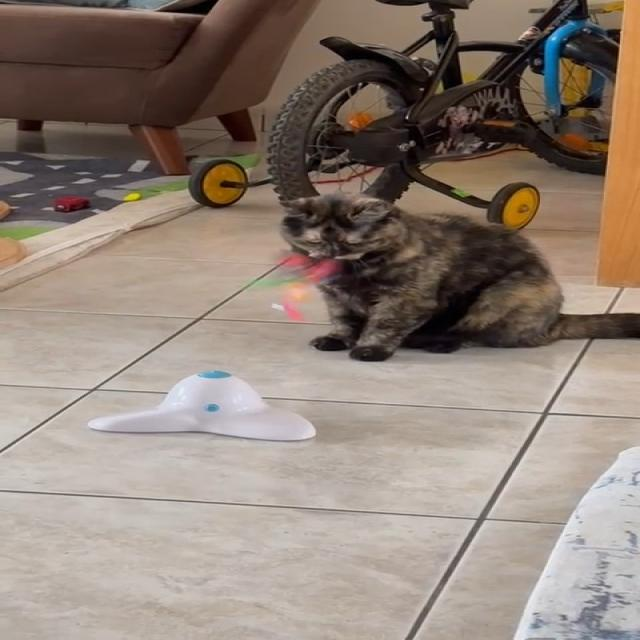authorized: (277, 190, 639, 362)
